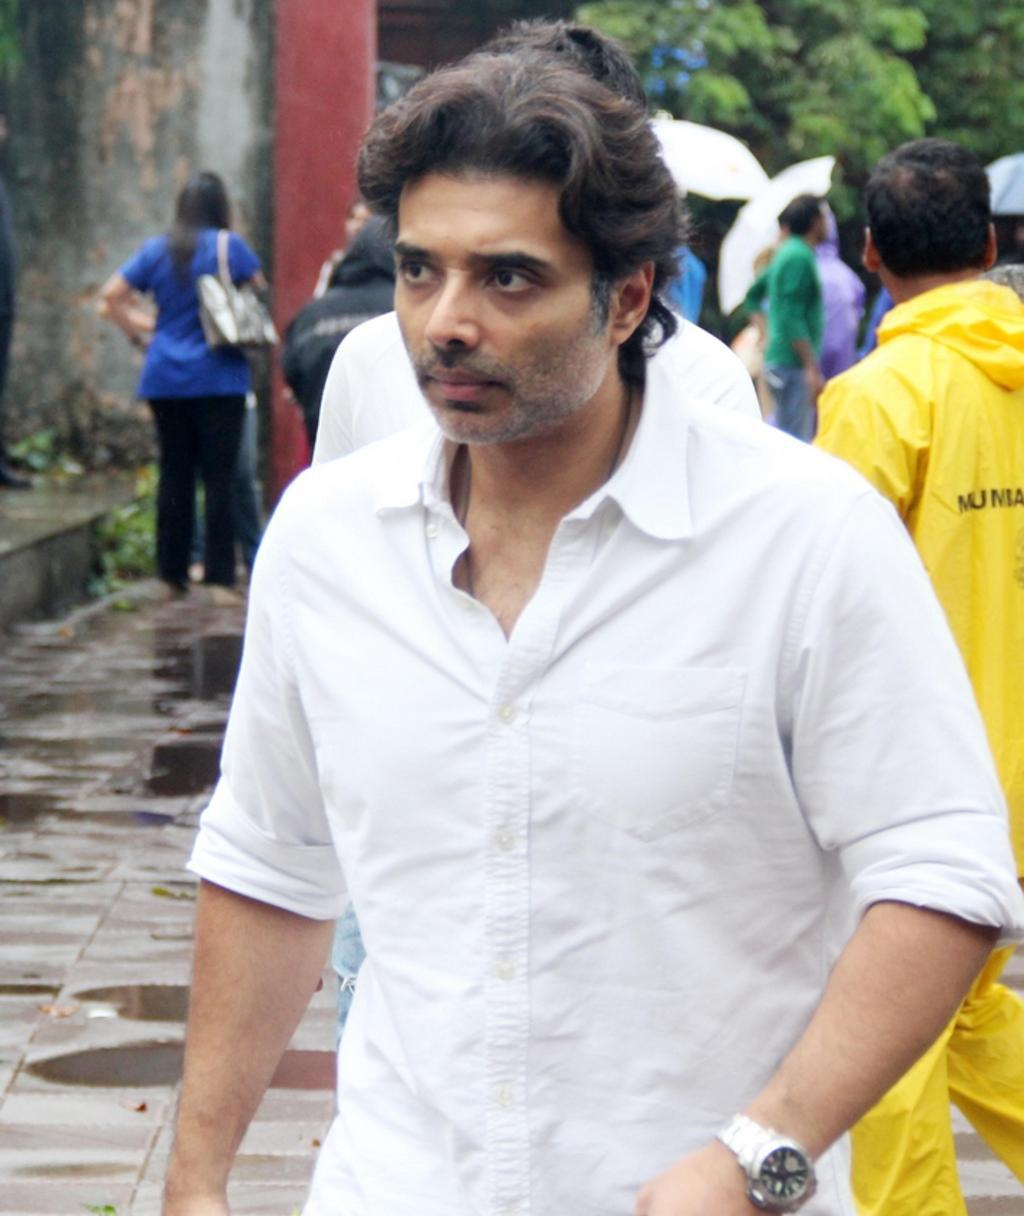face: (398, 179, 571, 428)
